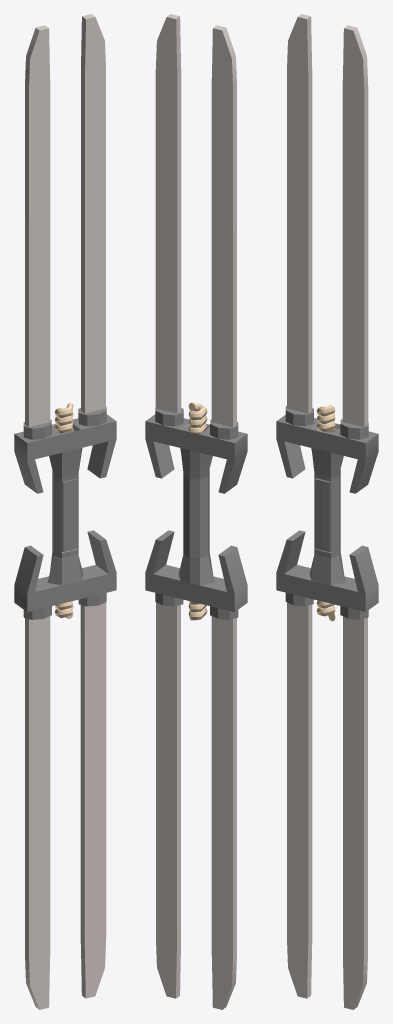
File: Morgsword.fbx
3 views of the same model, side by side, from view 1: azimuth 30°, elevation 25°; view 2: azimuth 150°, elevation 25°; view 3: azimuth 330°, elevation 25° (orthographic).
Visible parts, largest first — view 1: pCylinder7; view 2: pCylinder7; view 3: pCylinder7.
Part boxes in pixels (box(x1,y1,x2,y2)): pCylinder7: box(14, 14, 116, 1009); pCylinder7: box(145, 14, 247, 1009); pCylinder7: box(276, 14, 378, 1009).
Bounding box in the file's own units: 4.06 × 42.5 × 1.03.
